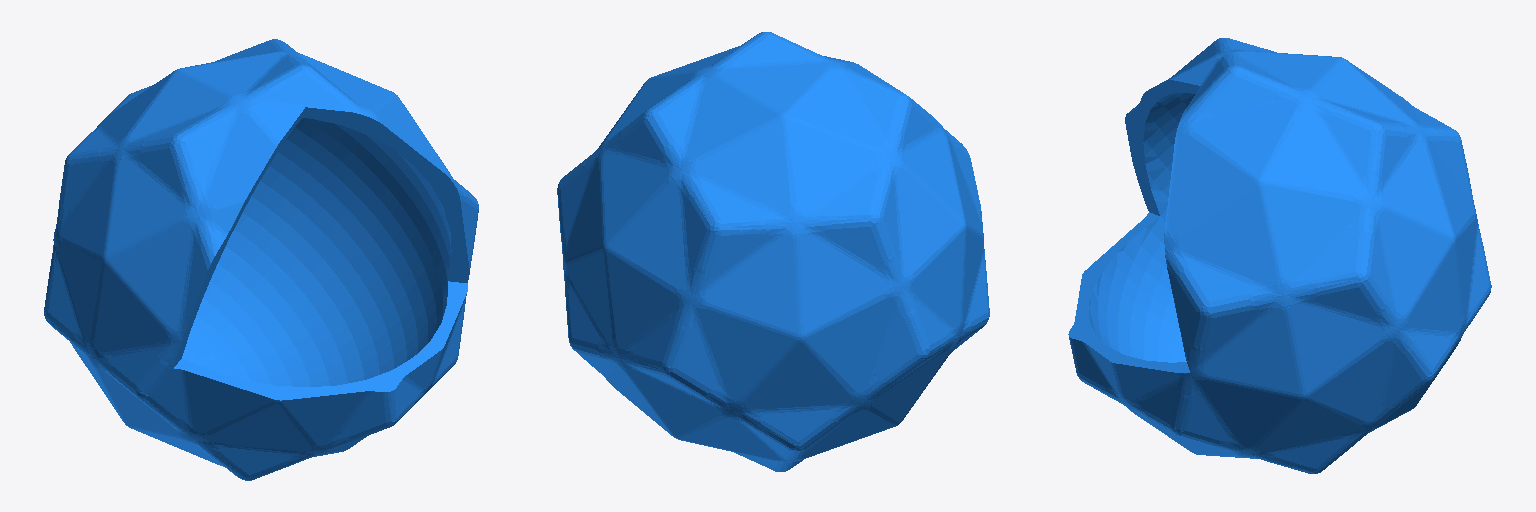
File: Shell.obj
3 renders of one model, left to right at view 1: azimuth 30°, elevation 25°; view 2: azimuth 150°, elevation 25°; view 3: azimuth 270°, elevation 25°, orthographic.
Visible parts, largest first — view 1: mesh 2 Pentagon Piece-4-surface2, mesh 1 Dodecahedron 6-1; view 2: mesh 2 Pentagon Piece-4-surface2, mesh 1 Dodecahedron 6-1; view 3: mesh 2 Pentagon Piece-4-surface2, mesh 1 Dodecahedron 6-1.
Part boxes in pixels (bbox=[...]): mesh 2 Pentagon Piece-4-surface2: bbox=[44, 39, 478, 480]; mesh 1 Dodecahedron 6-1: bbox=[48, 41, 477, 474]; mesh 2 Pentagon Piece-4-surface2: bbox=[557, 32, 989, 471]; mesh 1 Dodecahedron 6-1: bbox=[561, 37, 987, 469]; mesh 2 Pentagon Piece-4-surface2: bbox=[1068, 38, 1491, 473]; mesh 1 Dodecahedron 6-1: bbox=[1072, 39, 1489, 468].
Size of the model in its own units: 0.2654 by 0.2743 by 0.2618.